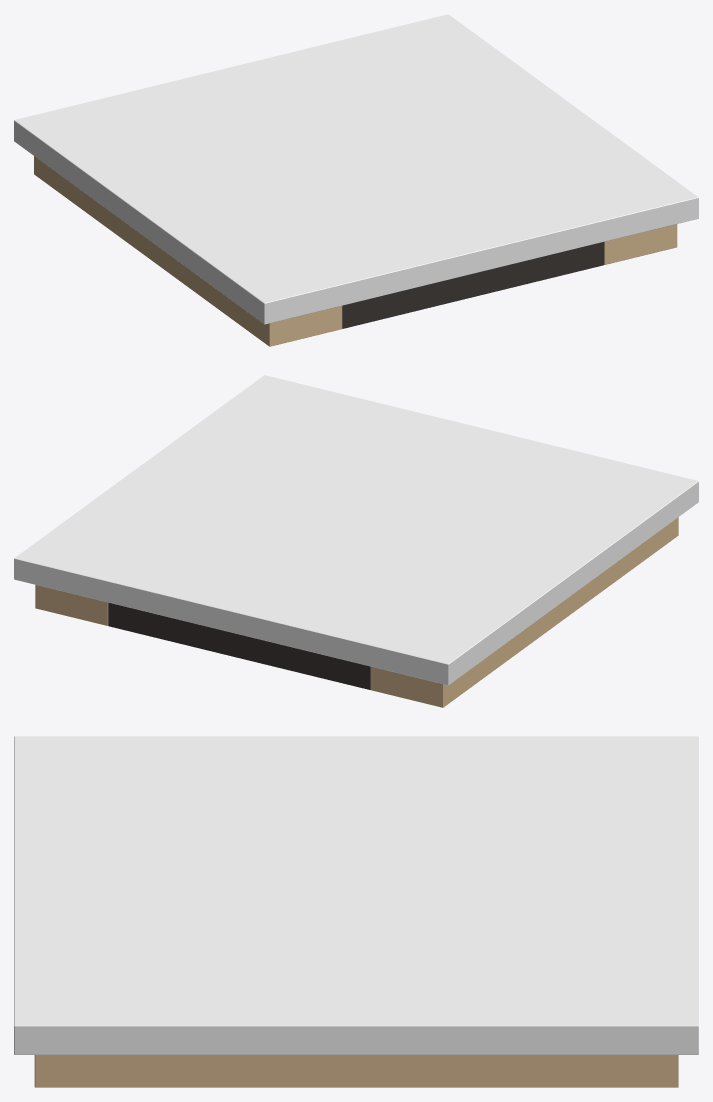
3 views of the same model, one above another, from view 1: azimuth 30°, elevation 25°; view 2: azimuth 150°, elevation 25°; view 3: azimuth 270°, elevation 25° (orthographic). The views are drawn at different scales.
Visible parts, largest first — view 1: CH10_UpImpluvium, MainModel:0, MainModel:1; view 2: CH10_UpImpluvium, MainModel:0, MainModel:1; view 3: CH10_UpImpluvium, MainModel:0.
Boxes of the visible parts, box(x1,y1,x2,y2) form: CH10_UpImpluvium: box(14, 14, 698, 324); MainModel:0: box(34, 156, 677, 346); MainModel:1: box(342, 242, 604, 328); CH10_UpImpluvium: box(14, 375, 698, 685); MainModel:0: box(35, 517, 678, 707); MainModel:1: box(108, 602, 370, 689); CH10_UpImpluvium: box(14, 736, 698, 1054); MainModel:0: box(34, 1055, 678, 1087).
Bounding box in the file's own units: 1.66 × 0.1914 × 1.66.
